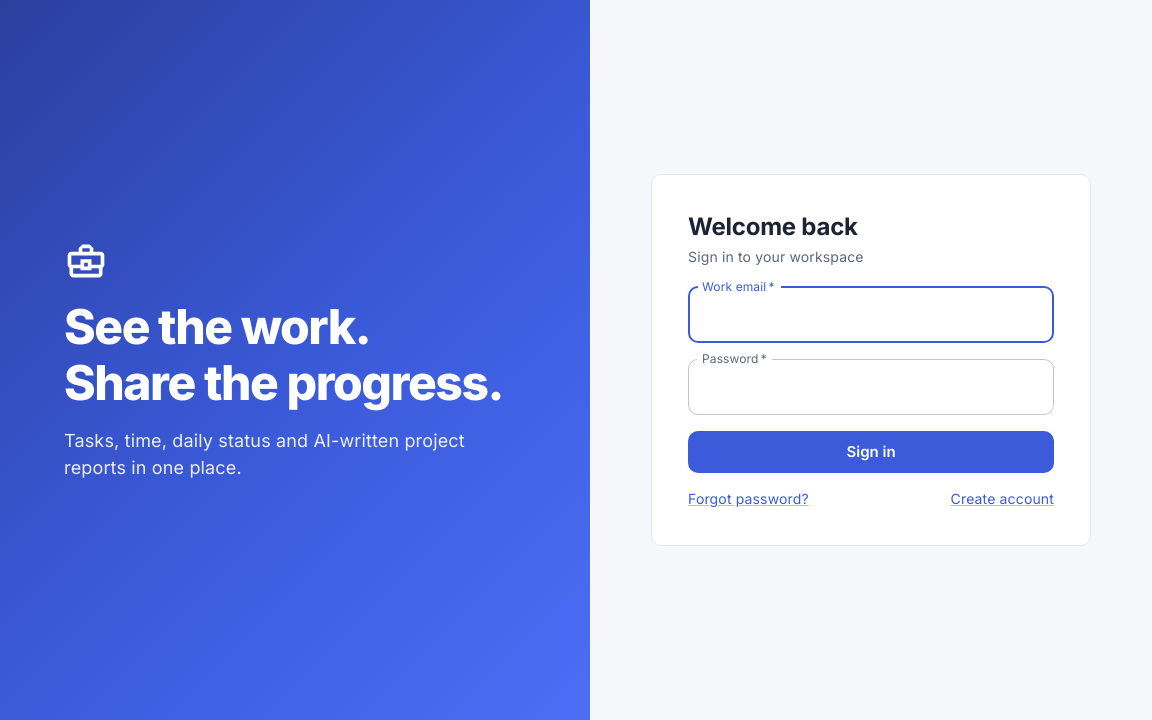
Test: Login › shows the server error for bad credentials
This screenshot has width=1152, height=720.
Type "a@acme.com" into the field labelled "Work email *" at point(871, 315), box [688,287,1054,343]
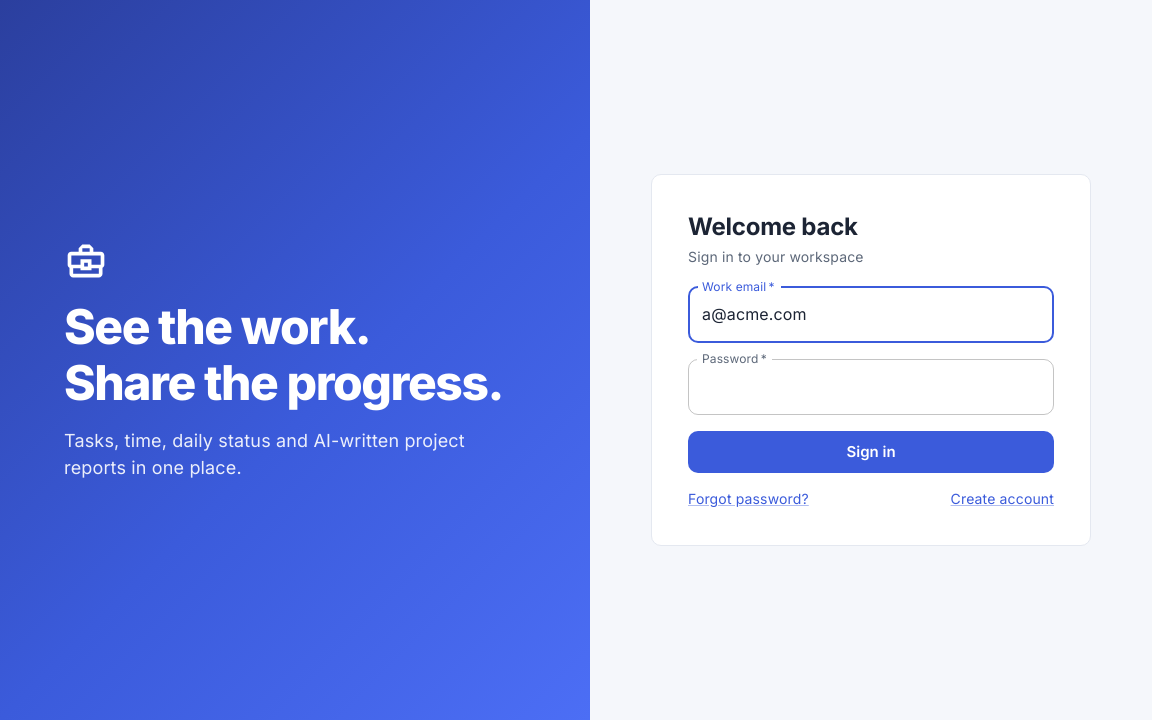
Type "wrong-password" into the password field labelled "Password *" at point(871, 387), box [688,359,1054,415]
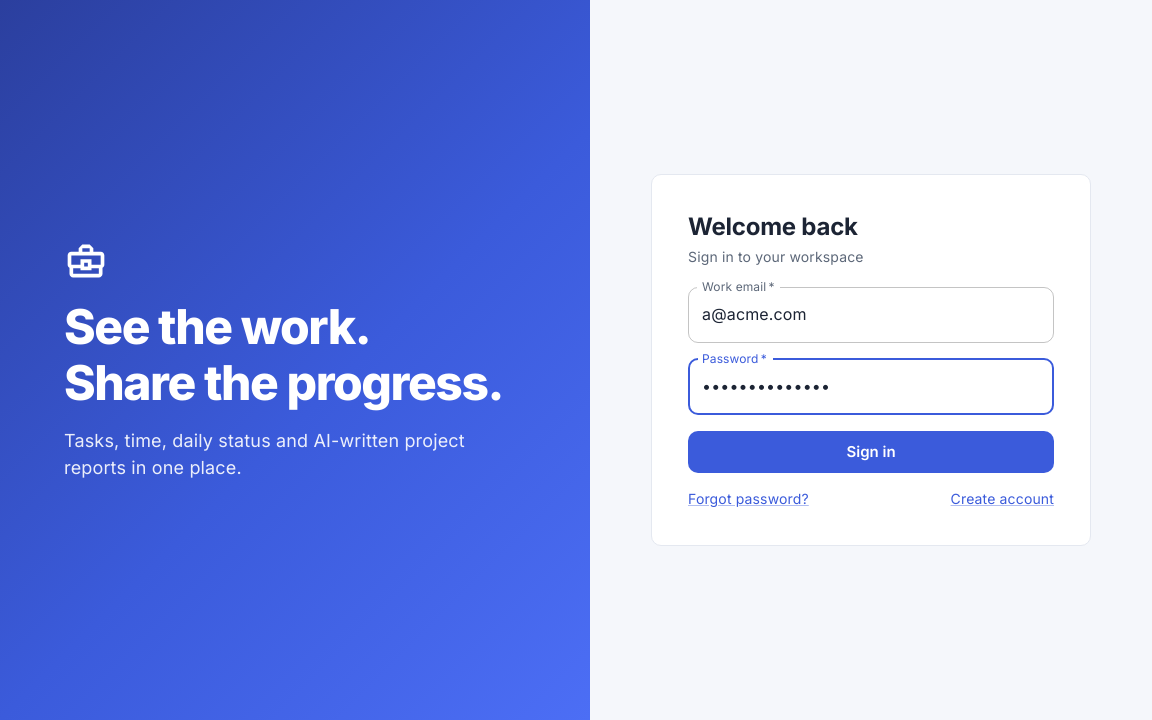
Click the button "Sign in" at point(871, 452), box [688,431,1054,473]
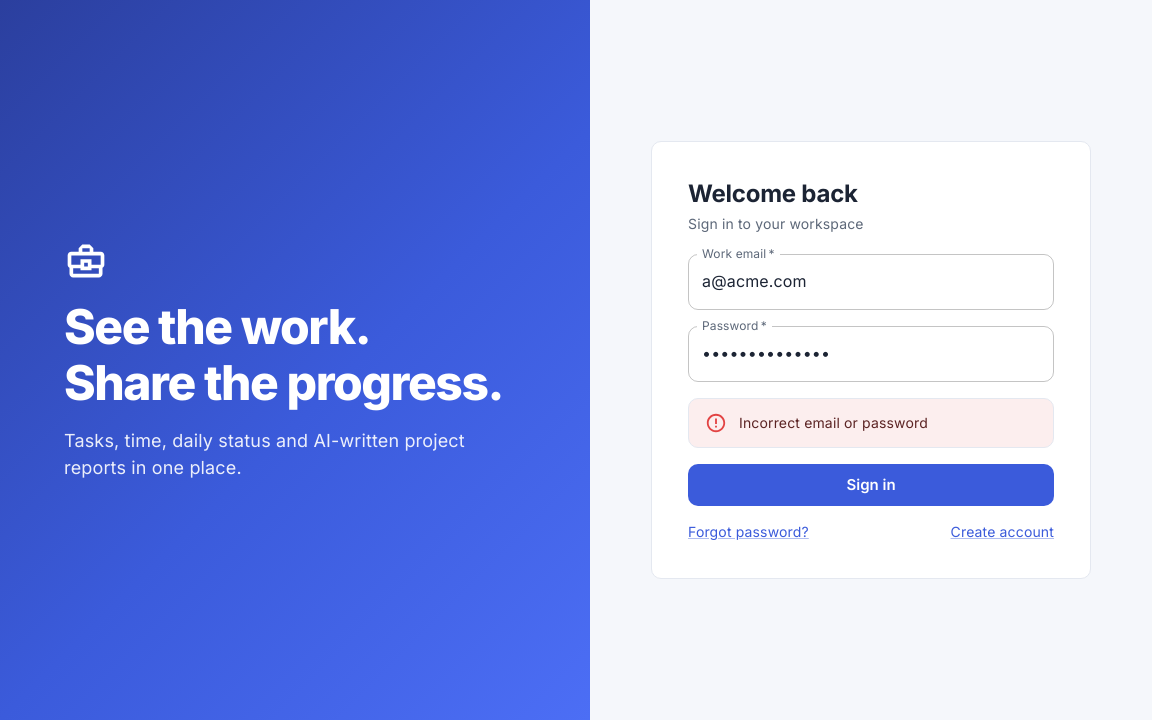
Check: the text "Incorrect email or password" is shown, box [739,414,928,431]
